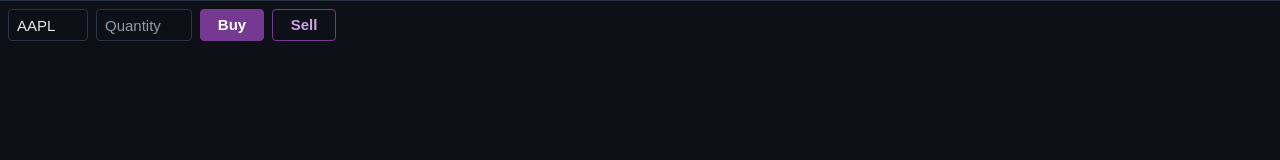
Scenario: TradeBar › shows the reason a trade was rejected
The width and height of the screenshot is (1280, 160).
In the number field labelled "Quantity": (144, 25) [96,9,192,41], type "1000"
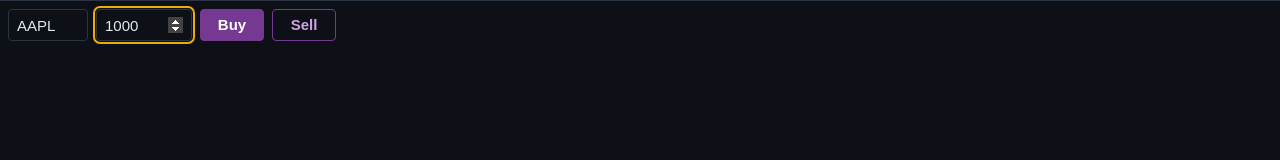
Click the button "Buy": click(232, 25) [200,9,264,41]
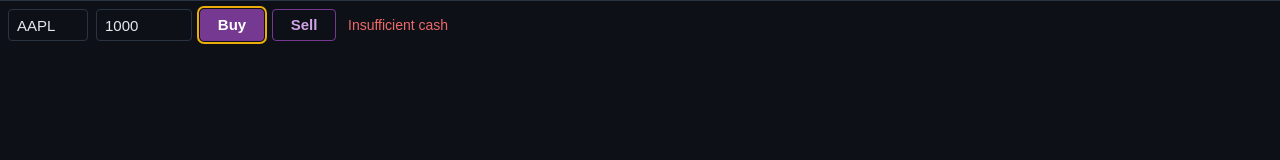
Check: the message reads "Insufficient cash", box [348,17,448,33]
